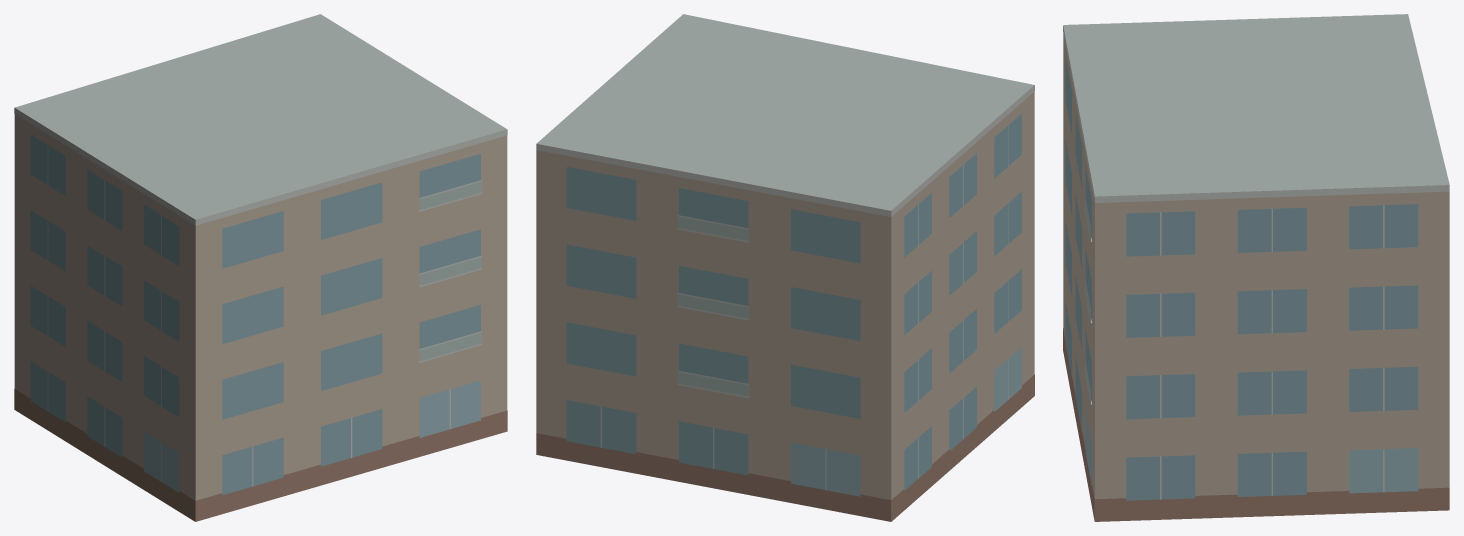
File: survey-upis-32744848.glb
3 renders of one model, left to right at view 1: azimuth 30°, elevation 25°; view 2: azimuth 150°, elevation 25°; view 3: azimuth 270°, elevation 25°, orthographic. The views are drawn at different scales.
Parts seen in each view (by area): view 1: survey-upis-32744848.tmp; view 2: survey-upis-32744848.tmp; view 3: survey-upis-32744848.tmp.
Boxes of the visible parts, x1=… form: survey-upis-32744848.tmp: x1=14, y1=14, x2=507, y2=521; survey-upis-32744848.tmp: x1=536, y1=14, x2=1034, y2=521; survey-upis-32744848.tmp: x1=1063, y1=14, x2=1449, y2=521.
Size of the model in its own units: 14.69 by 12.2 by 13.15.
